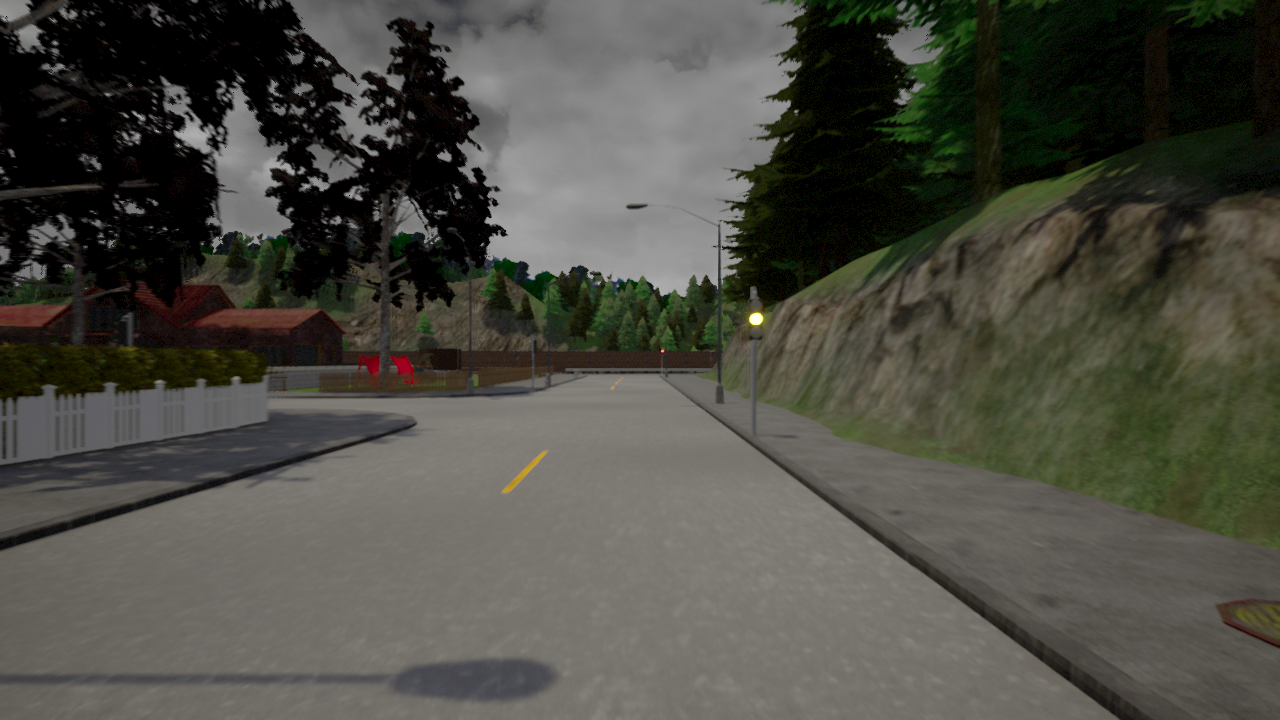yellow: (747, 298, 764, 343)
